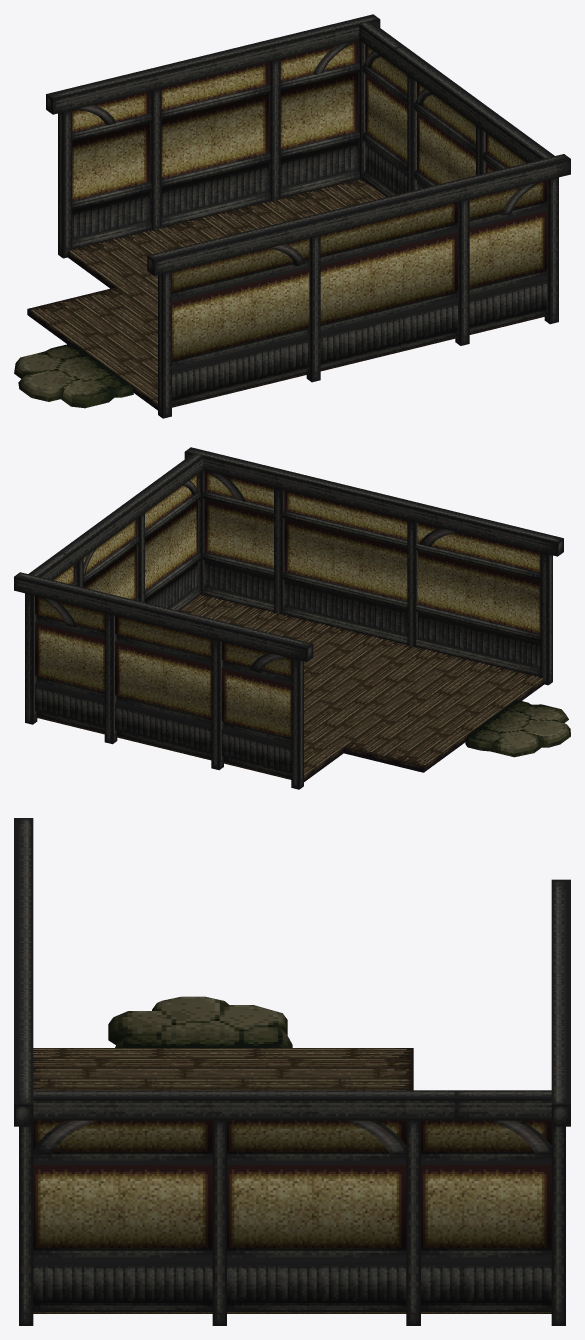
Rendered from EnvBdgMD_Forest_A_Indoor_House_J.FBX.
3 renders of one model, top to bottom at view 1: azimuth 30°, elevation 25°; view 2: azimuth 150°, elevation 25°; view 3: azimuth 270°, elevation 25°, orthographic. The views are drawn at different scales.
Parts seen in each view (by area): view 1: EnvBdgMD_Forest_A_Indoor_House_J; view 2: EnvBdgMD_Forest_A_Indoor_House_J; view 3: EnvBdgMD_Forest_A_Indoor_House_J.
Boxes of the visible parts, left/top/right/bottom form: EnvBdgMD_Forest_A_Indoor_House_J: left=14, top=14, right=570, bottom=418; EnvBdgMD_Forest_A_Indoor_House_J: left=14, top=447, right=570, bottom=789; EnvBdgMD_Forest_A_Indoor_House_J: left=14, top=818, right=570, bottom=1325.
Size of the model in its own units: 1620 by 525 by 1150.
